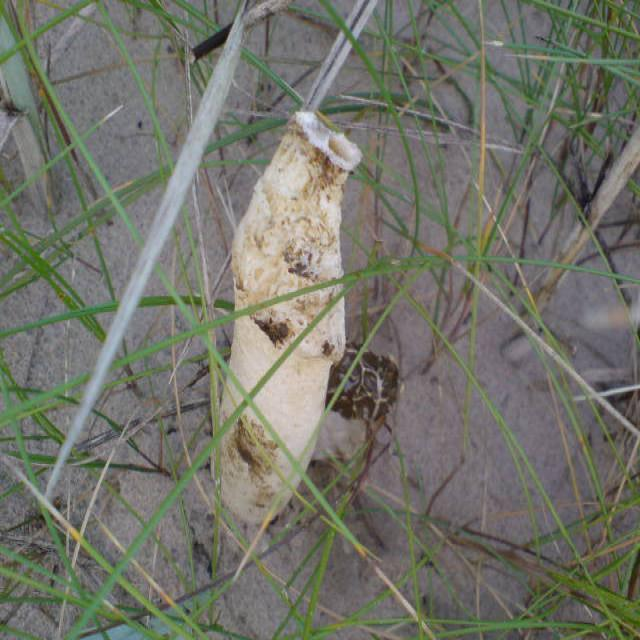Dictyophora indusiate: (205, 113, 363, 525)
